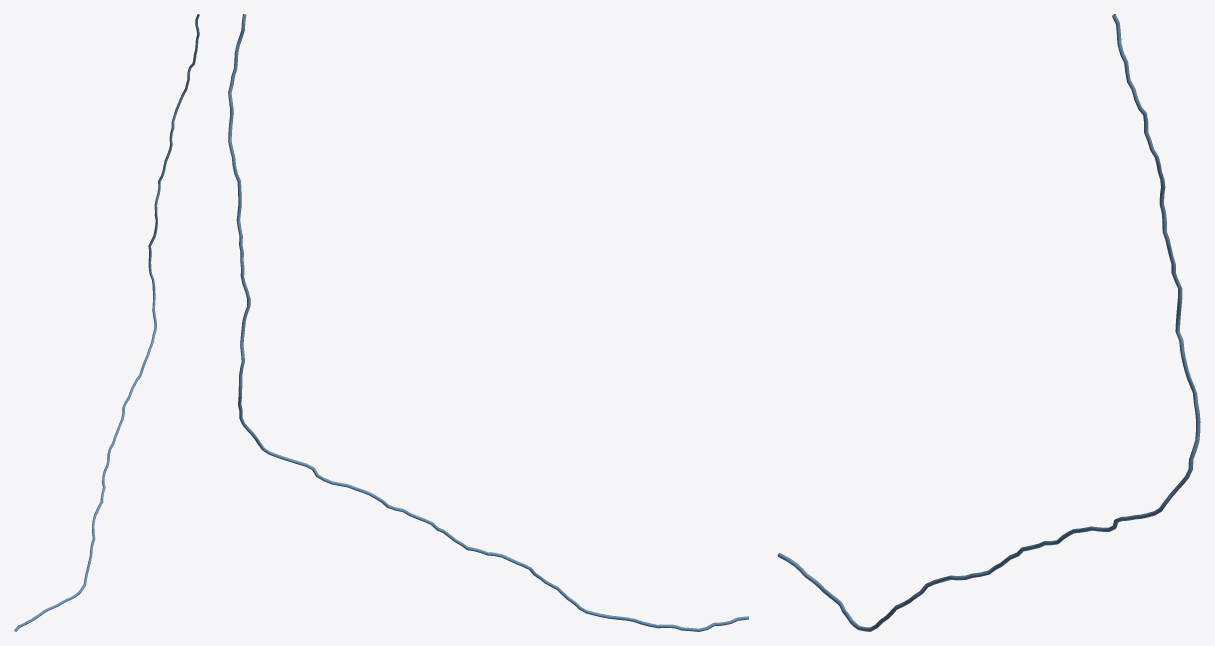
File: sweep149.fbx
3 renders of one model, left to right at view 1: azimuth 30°, elevation 25°; view 2: azimuth 150°, elevation 25°; view 3: azimuth 270°, elevation 25°, orthographic. The views are drawn at different scales.
Visible parts, largest first — view 1: sweep149; view 2: sweep149; view 3: sweep149.
Part boxes in pixels (<box>): sweep149: <box>14,14,199,631</box>; sweep149: <box>228,14,748,631</box>; sweep149: <box>777,14,1200,631</box>.
Bounding box in the file's own units: 2.46 × 3.88 × 1.91.
